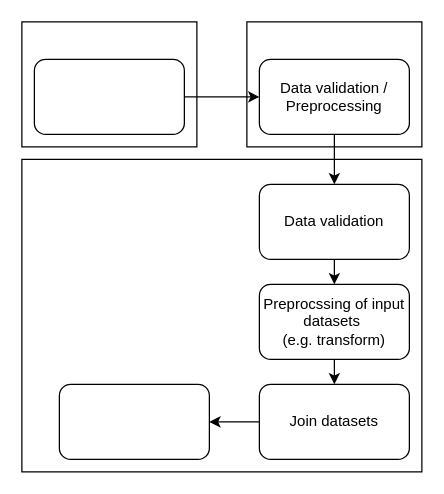
Image size: 444x494. Some labels were removed from this diagram. The centre of each missing label's shape, as x and y in pixels:
"Create new linking job by the user" belongs at point (108, 96).
"Final calculations (e.g. statistical aggregation)" belongs at point (133, 421).
